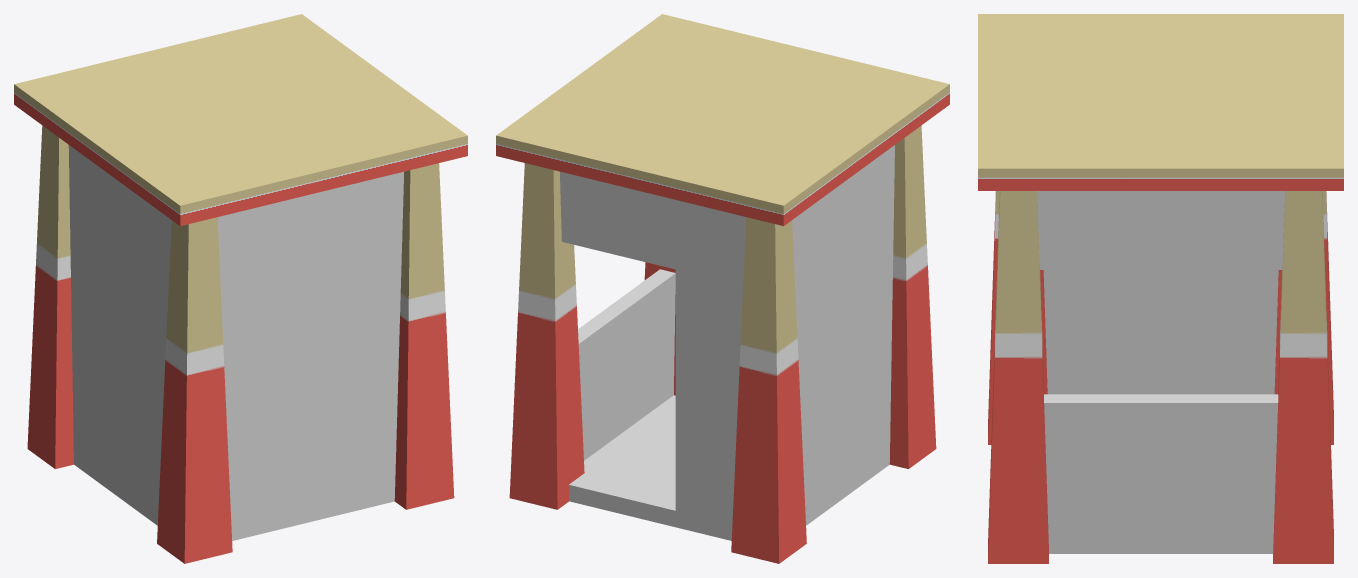
File: possatpam.fbx
3 renders of one model, left to right at view 1: azimuth 30°, elevation 25°; view 2: azimuth 150°, elevation 25°; view 3: azimuth 270°, elevation 25°, orthographic. The views are drawn at different scales.
Visible parts, largest first — view 1: Cube.105, Cube.104; view 2: Cube.105, Cube.104; view 3: Cube.105, Cube.104.
Boxes of the visible parts, bbox=[...] form: Cube.105: bbox=[14, 14, 467, 563]; Cube.104: bbox=[68, 145, 403, 540]; Cube.105: bbox=[496, 14, 949, 563]; Cube.104: bbox=[560, 145, 894, 540]; Cube.105: bbox=[978, 14, 1343, 563]; Cube.104: bbox=[1037, 191, 1285, 553].
Bounding box in the file's own units: 985 × 1189 × 985.
